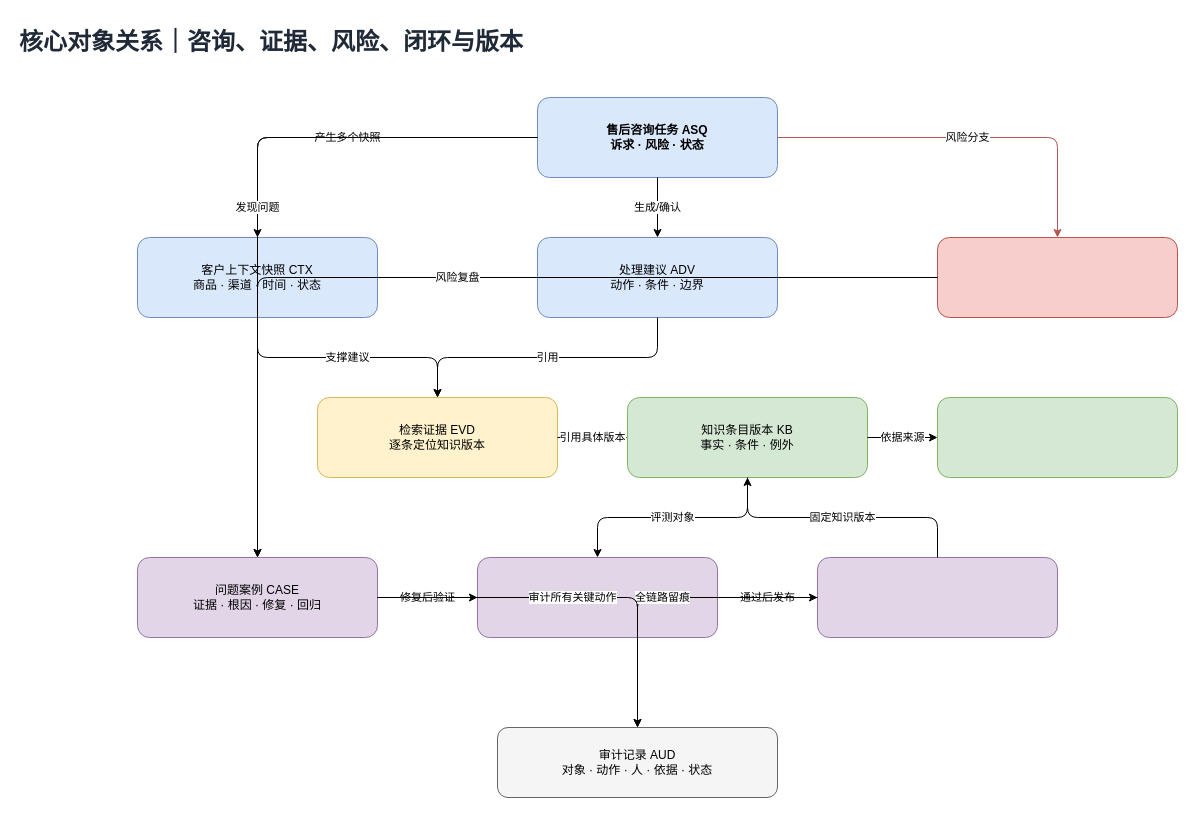
Image size: 1195x815. Some labels were removed from this diagram. The box of each missing label's shape, as (x1, y1, x2, y2) in pixels:
发布版本 REL 知识集合 · 可回滚: (816, 556, 1058, 638)
知识来源版本 SRC 原文 · 日期 · 范围: (936, 396, 1178, 478)
评测任务 EVAL 冻结核心任务 · 失败分类: (476, 556, 718, 638)
风险升级单 ESC 止损 · 升级 · 独立闭环: (936, 236, 1178, 318)
